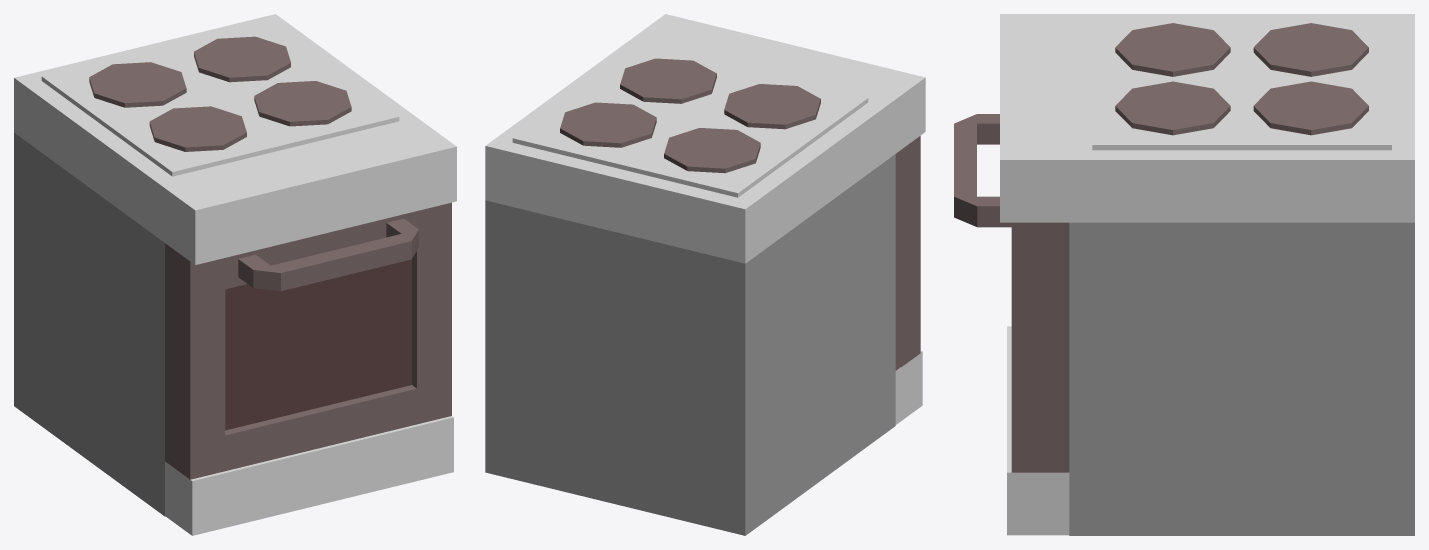
The model's file is Stove.fbx.
3 renders of one model, left to right at view 1: azimuth 30°, elevation 25°; view 2: azimuth 150°, elevation 25°; view 3: azimuth 270°, elevation 25°, orthographic. The views are drawn at different scales.
Visible parts, largest first — view 1: Stove; view 2: Stove; view 3: Stove.
Boxes of the visible parts, x1,y1,x2,y2 form: Stove: (14,14,456,535); Stove: (485,14,925,535); Stove: (954,14,1414,535).
Bounding box in the file's own units: 1.5 × 1.85 × 2.
